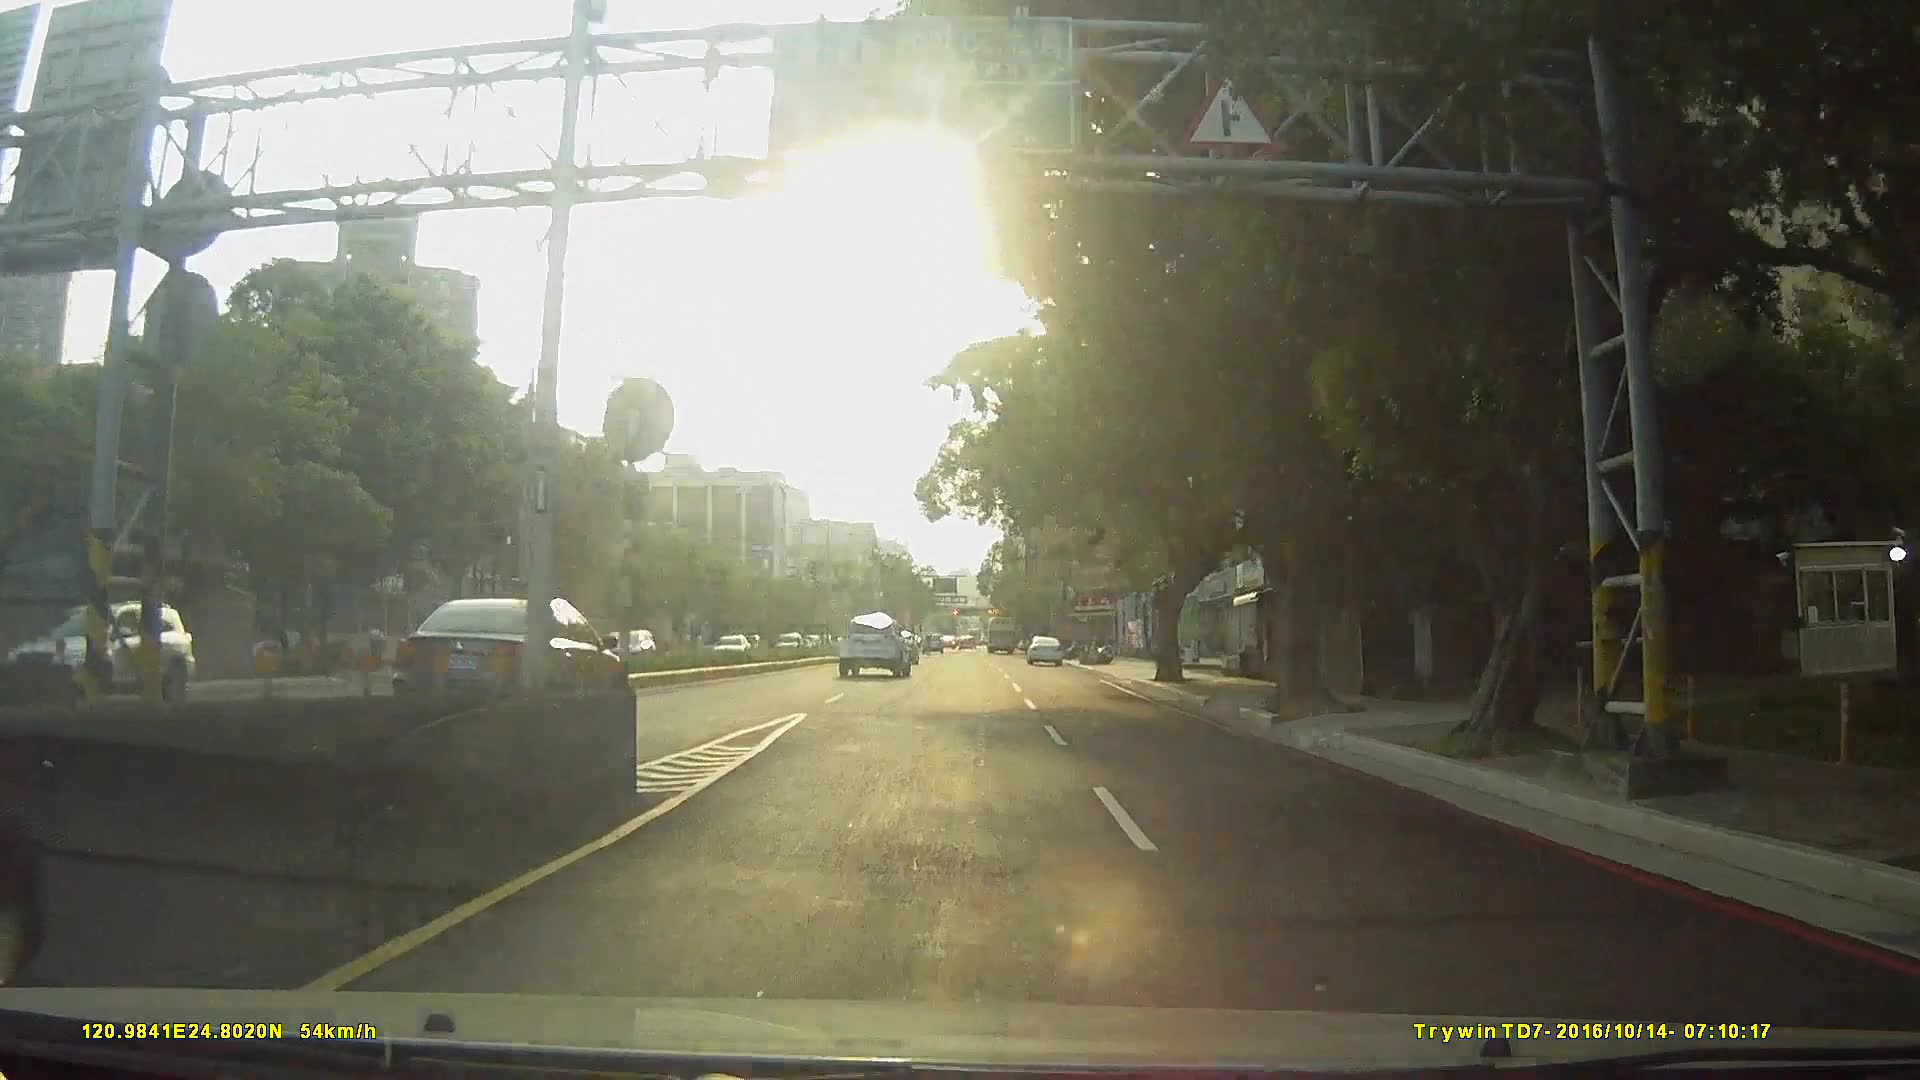pedestrian: (369, 623, 391, 676)
vehicle: (390, 595, 627, 732), (835, 610, 912, 677), (984, 613, 1017, 654), (1024, 631, 1064, 665)
